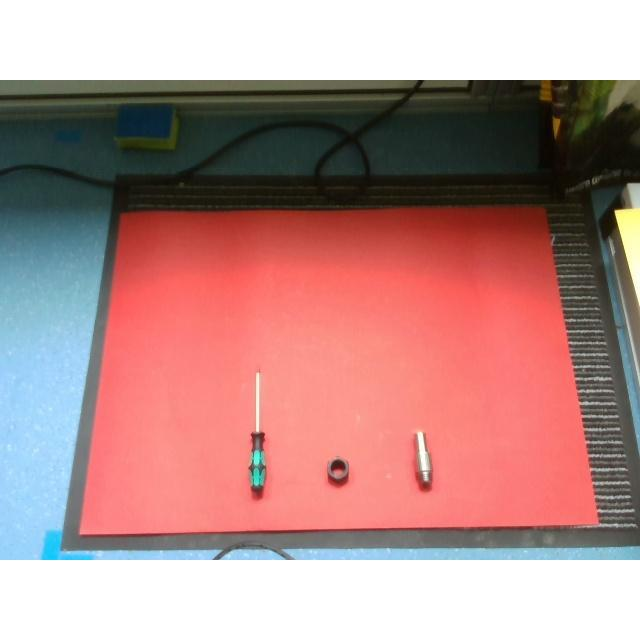Axis2: (413, 430, 435, 486)
M20: (325, 454, 351, 482)
Screwdriver: (248, 368, 264, 499)
